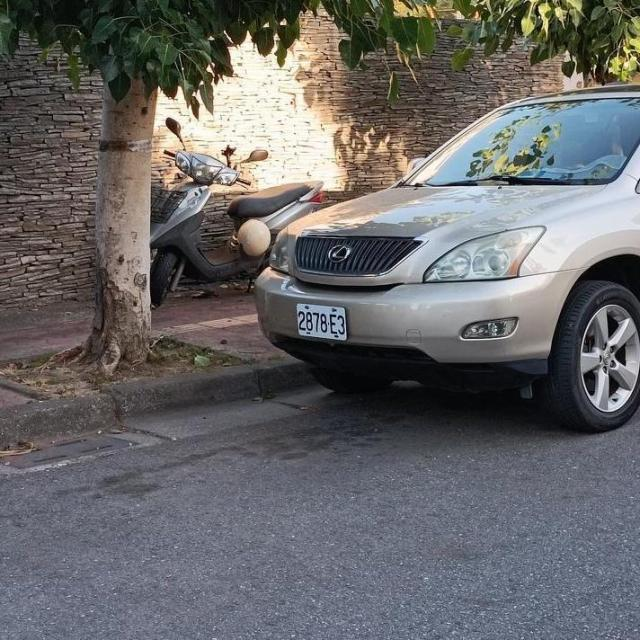W: (293, 297, 351, 345)
